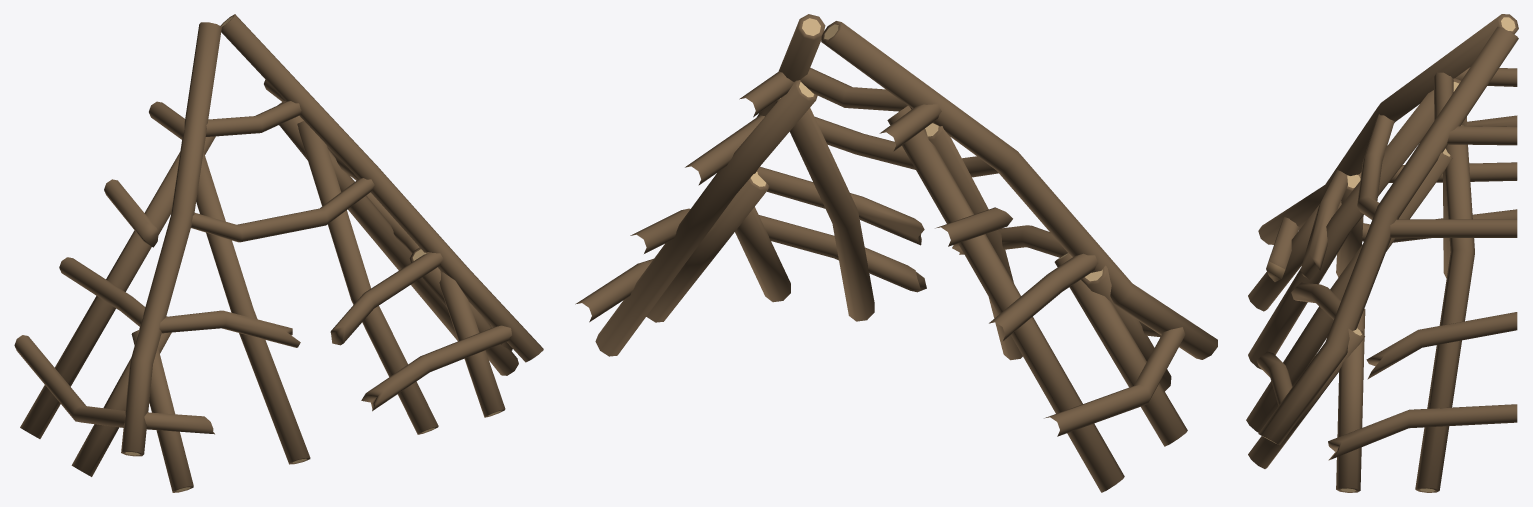
File: rpgpp_av_roof_support_01_6x5x3_end_02a.gltf
The picture shows the model from 3 angles, left to right: view 1: azimuth 30°, elevation 25°; view 2: azimuth 150°, elevation 25°; view 3: azimuth 270°, elevation 25°; orthographic projection. The views are drawn at different scales.
Parts seen in each view (by area): view 1: rpgpp_av_roof_support_01_6x5x3_end_02a; view 2: rpgpp_av_roof_support_01_6x5x3_end_02a; view 3: rpgpp_av_roof_support_01_6x5x3_end_02a.
Part boxes in pixels (x1,y1,x2,y2): rpgpp_av_roof_support_01_6x5x3_end_02a: (14,14,543,492); rpgpp_av_roof_support_01_6x5x3_end_02a: (575,14,1217,492); rpgpp_av_roof_support_01_6x5x3_end_02a: (1246,14,1518,492).
Bounding box in the file's own units: 0.0694 × 0.0528 × 0.0355.
Materials: 1 (1 with a texture image).
